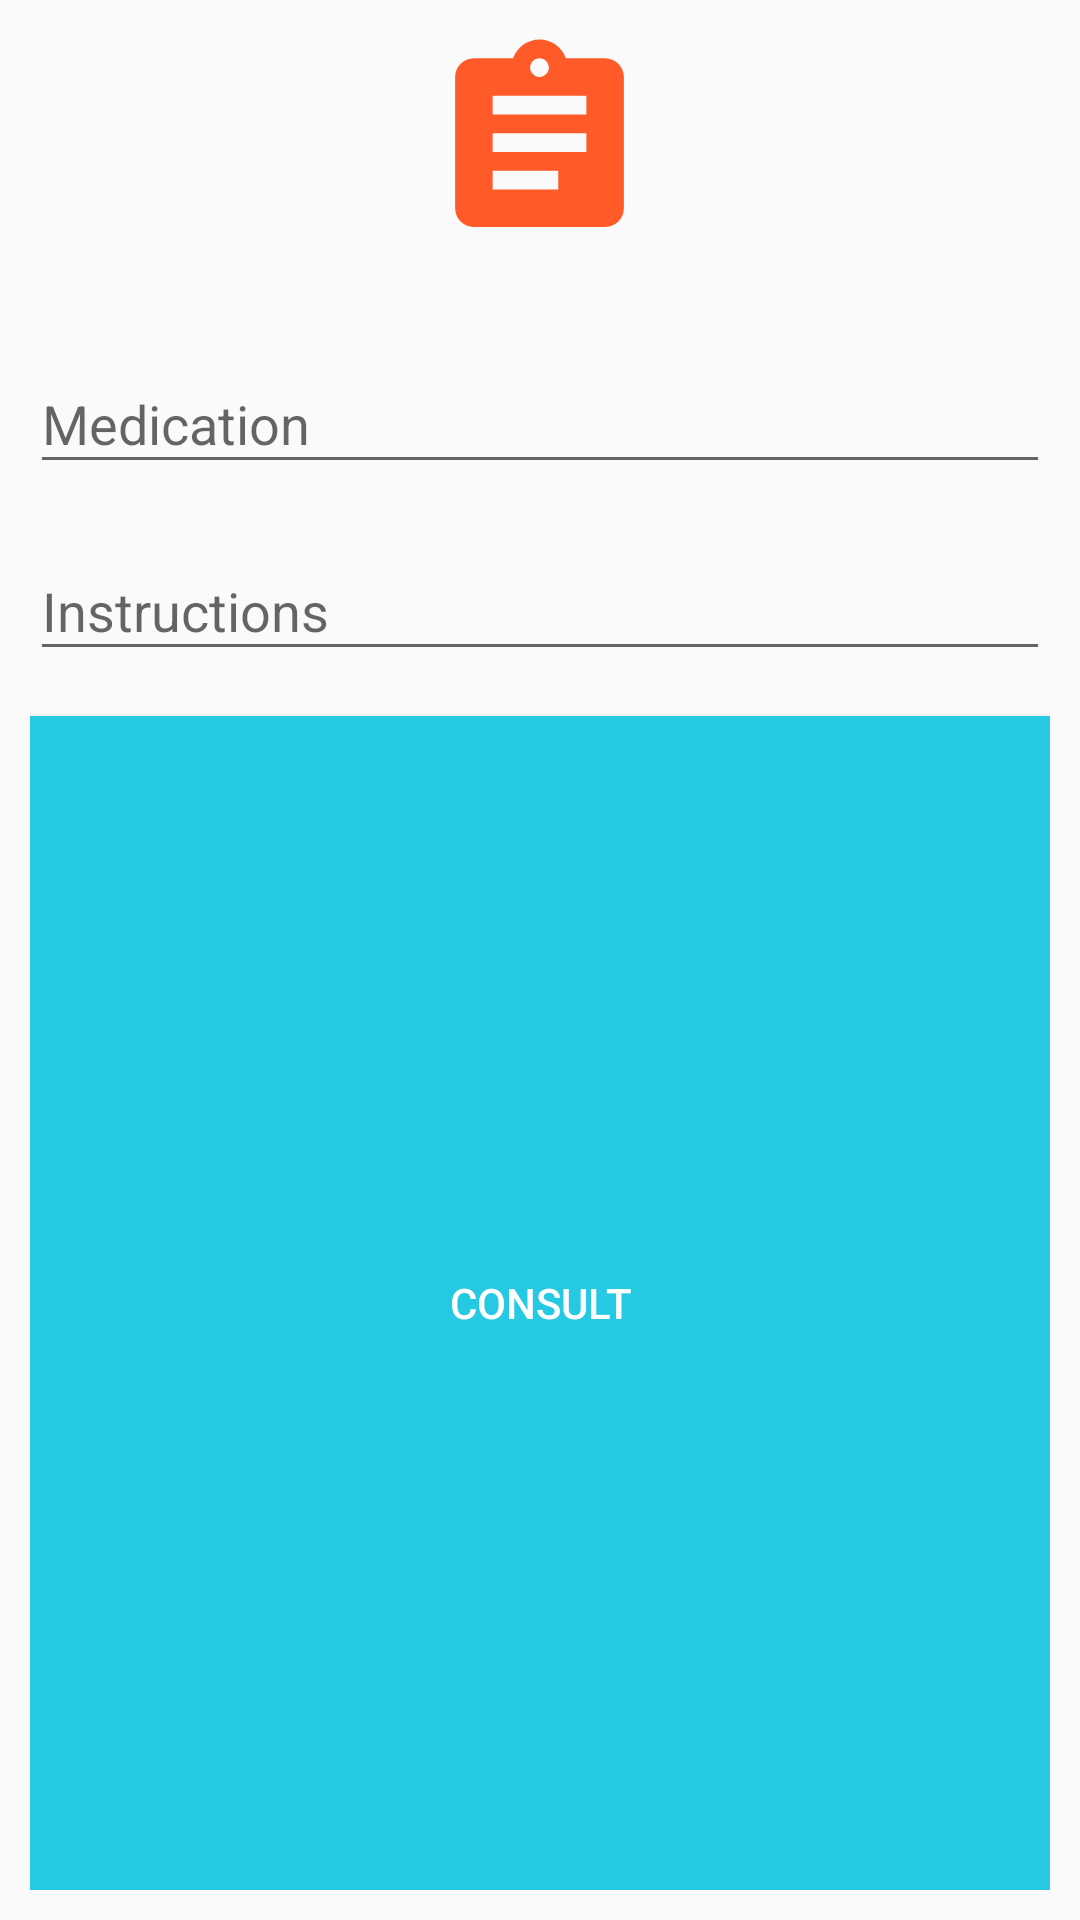

Screen size 1080x1920. Icon name, then its box in pixels as (x1=x1, y1=y1, x2=x2, y2=y2):
consultation: (x1=455, y1=39, x2=624, y2=227)
